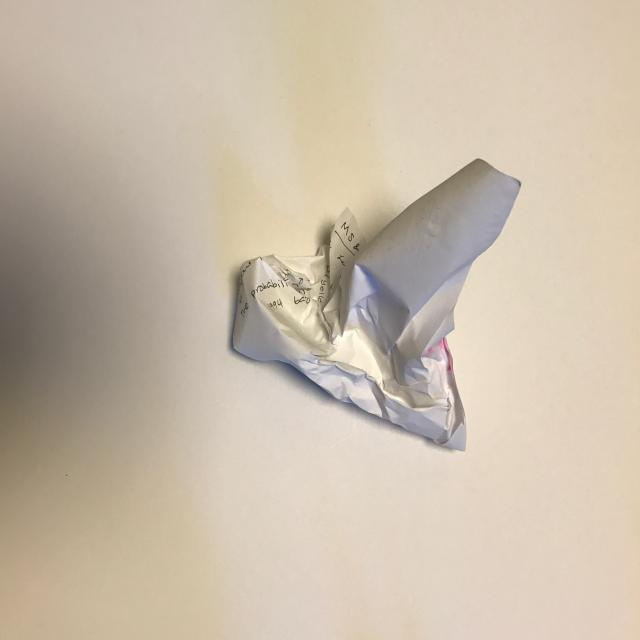paper: (198, 116, 539, 473)
